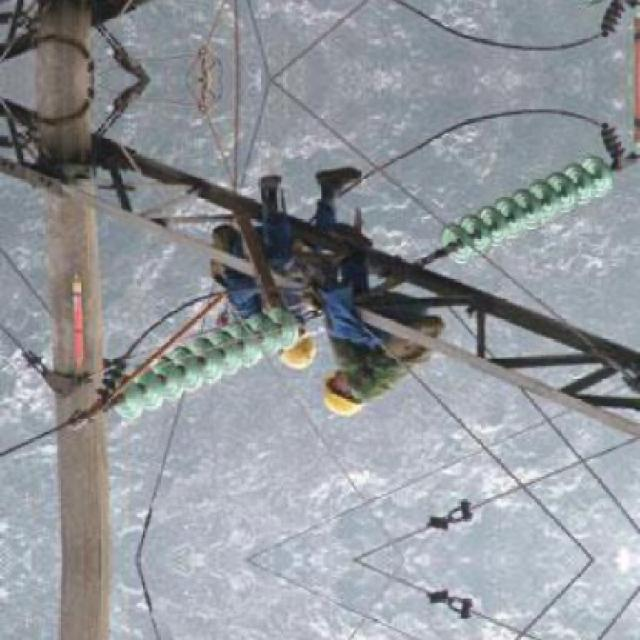con casco: (300, 362, 392, 434), (235, 321, 318, 370)
